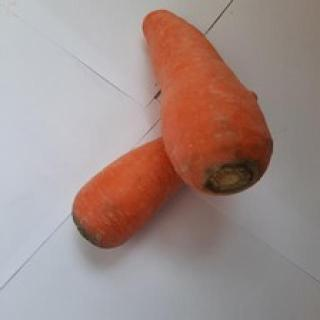carrot: (144, 10, 274, 194), (73, 135, 194, 251)
